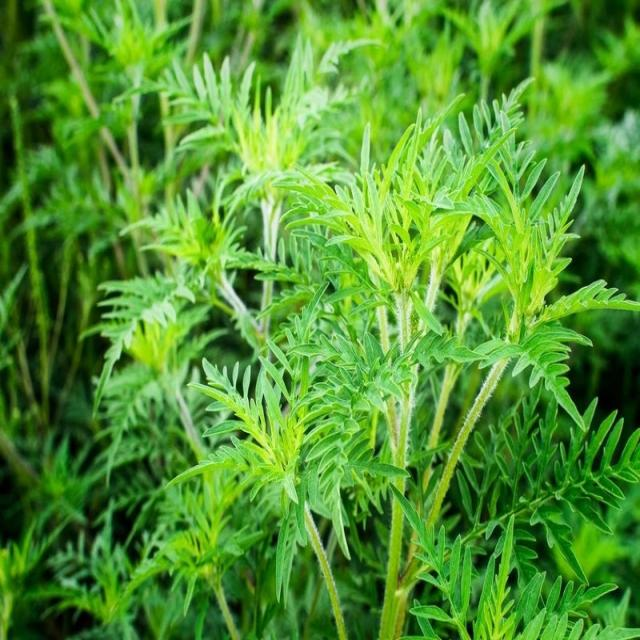ambrosia: (175, 52, 423, 270), (182, 349, 406, 553), (474, 150, 622, 410)
